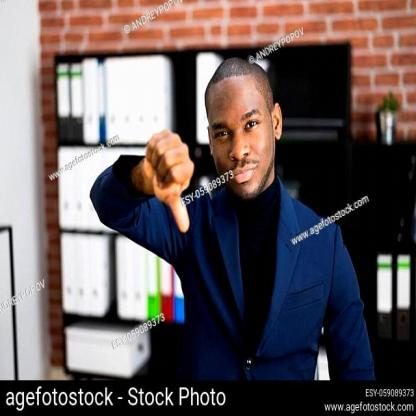Thumbs-Down: (132, 122, 206, 236)
